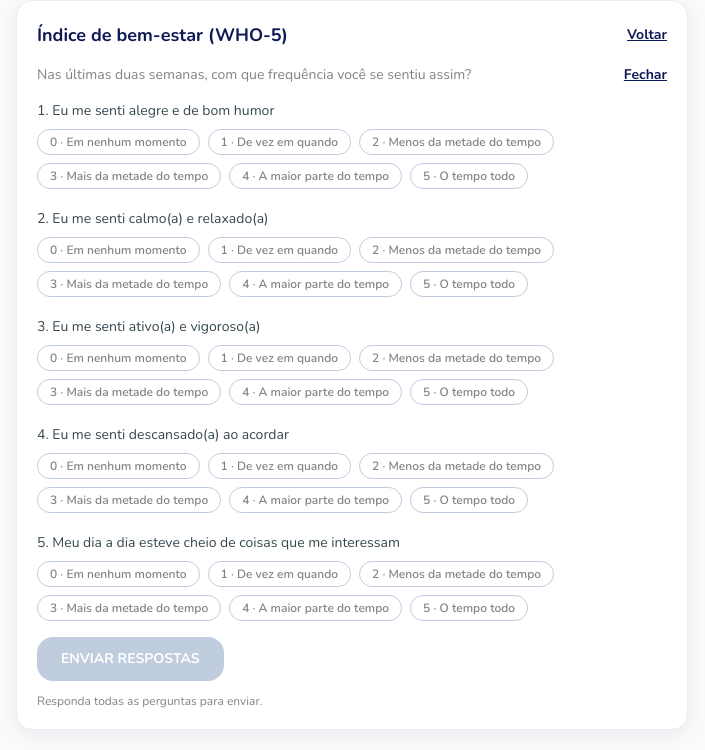
AssessmentPage › envia o WHO-5, mostra o resultado e o encaminhamento sem tom de erro
The width and height of the screenshot is (705, 750).
Check: the text "Nas últimas duas semanas" is shown, box [37,65,471,84]
Click the button "0 · Em nenhum momento" below "Eu me senti alegre e de bom humor" at (118, 142), box [37,129,200,155]
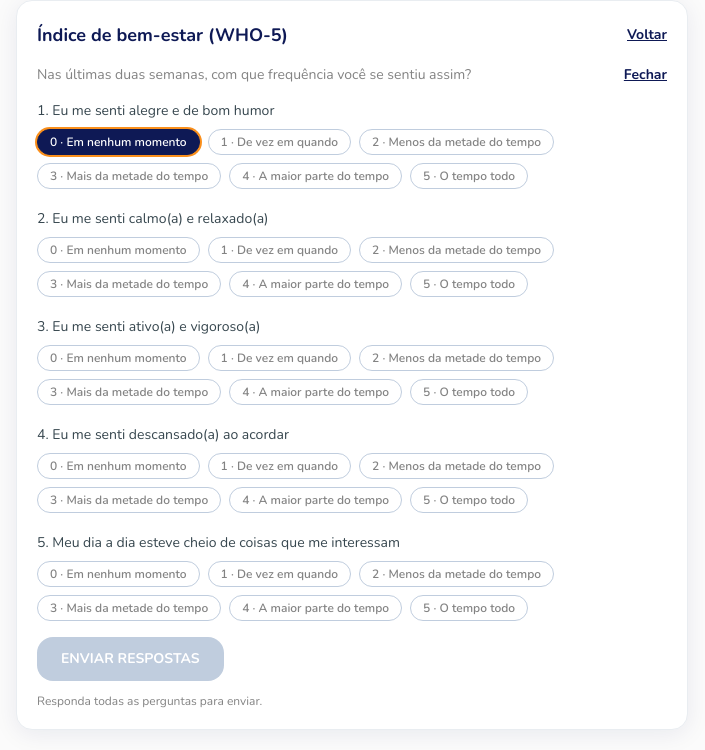
Click the button "0 · Em nenhum momento" below "Eu me senti calmo(a) e relaxado(a)" at (118, 250), box [37,237,200,263]
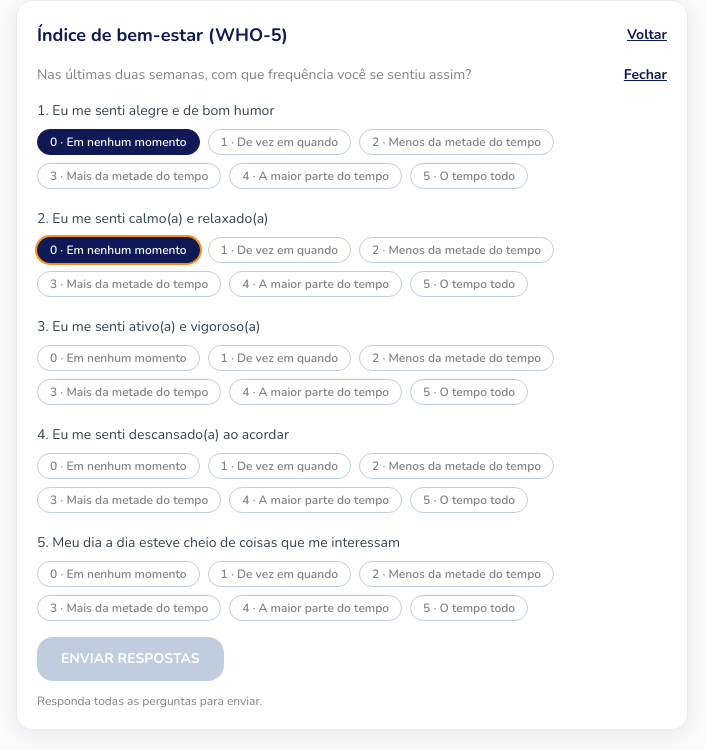
Click the button "0 · Em nenhum momento" below "Eu me senti ativo(a) e vigoroso(a)" at (118, 358), box [37,345,200,371]
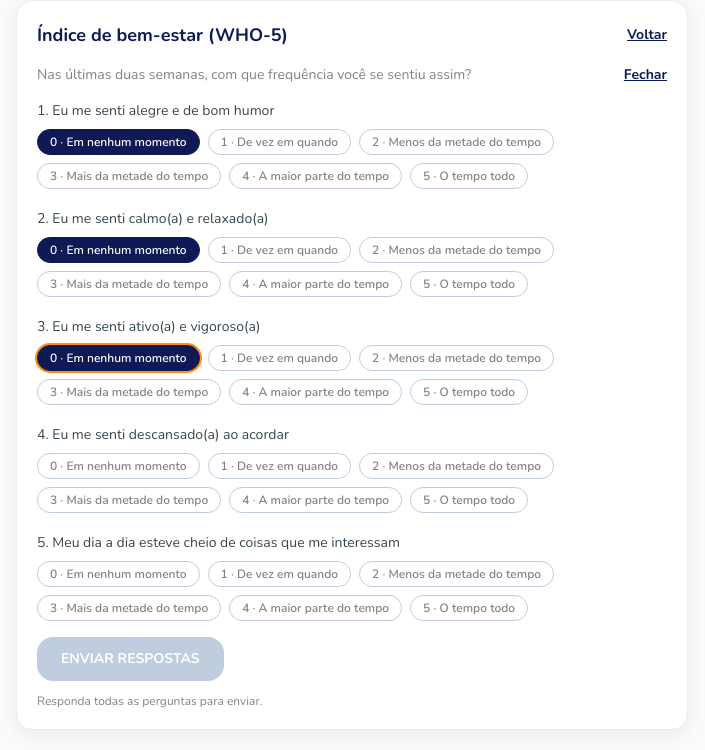
Click the button "0 · Em nenhum momento" below "Eu me senti descansado(a) ao acordar" at (118, 466), box [37,453,200,479]
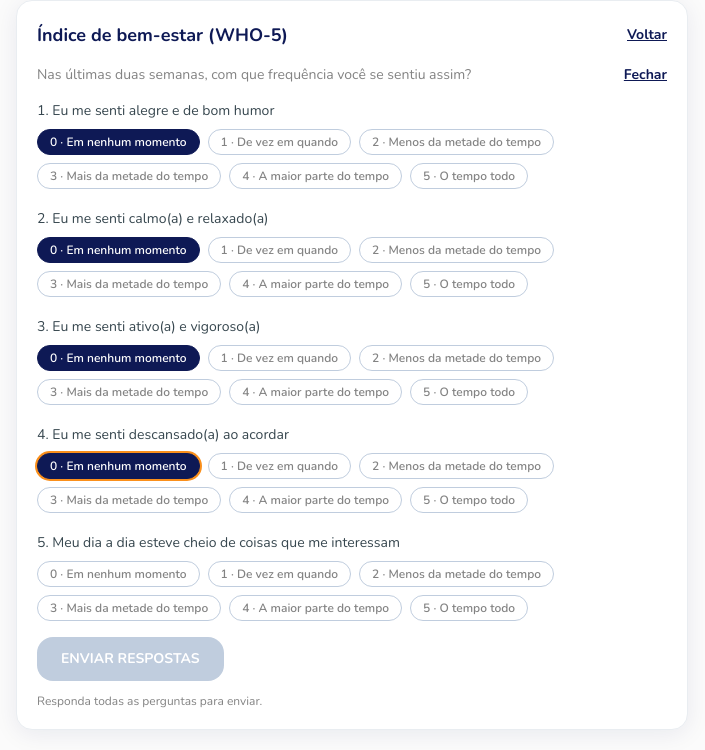
Click the 5th button "0 · Em nenhum momento" at (118, 574), box [37,561,200,587]
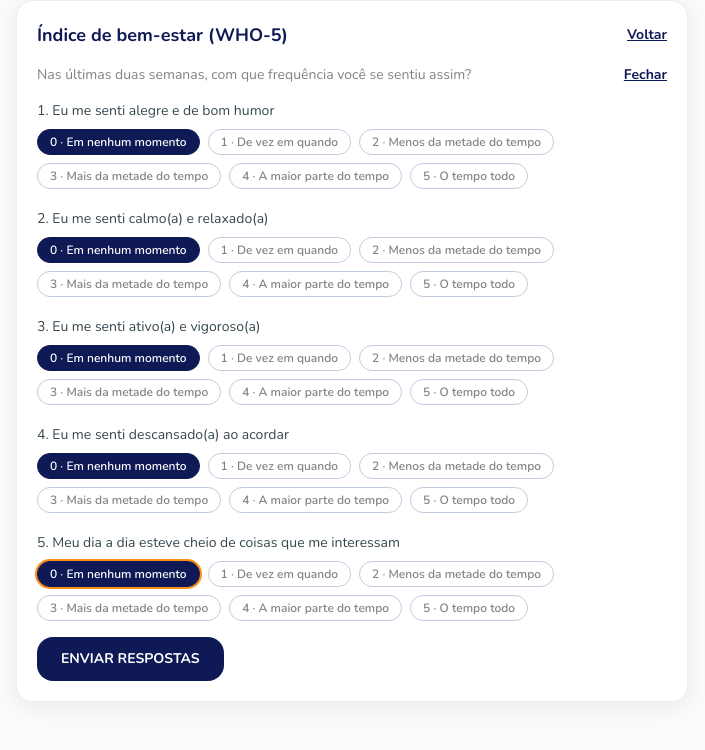
Click the button "Enviar respostas" at (130, 659), box [37,637,224,681]
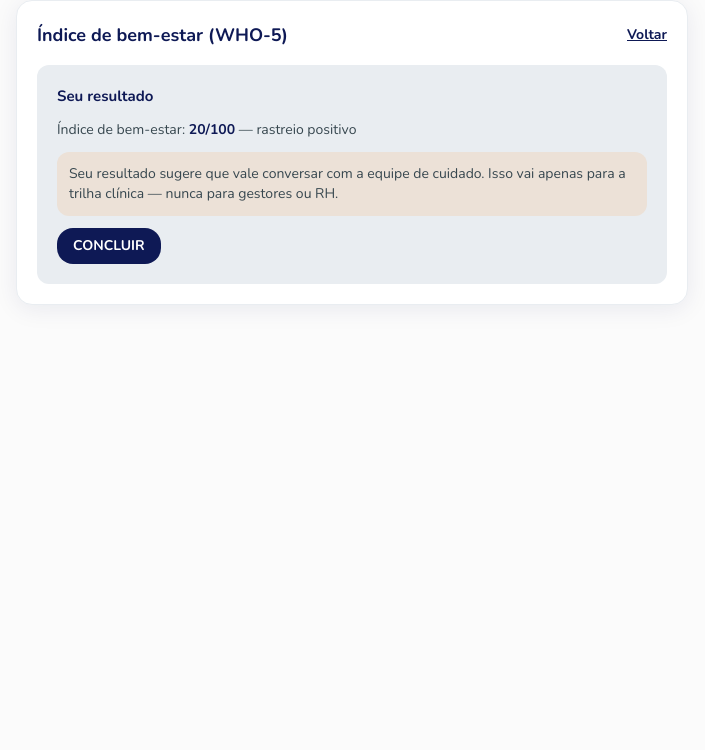
Check: the text "Índice de bem-estar: 20/100 — rastreio positivo" is shown, box [57,120,356,138]
Check: the text "vale conversar com a equipe de cuidado" is shown, box [69,164,626,202]
